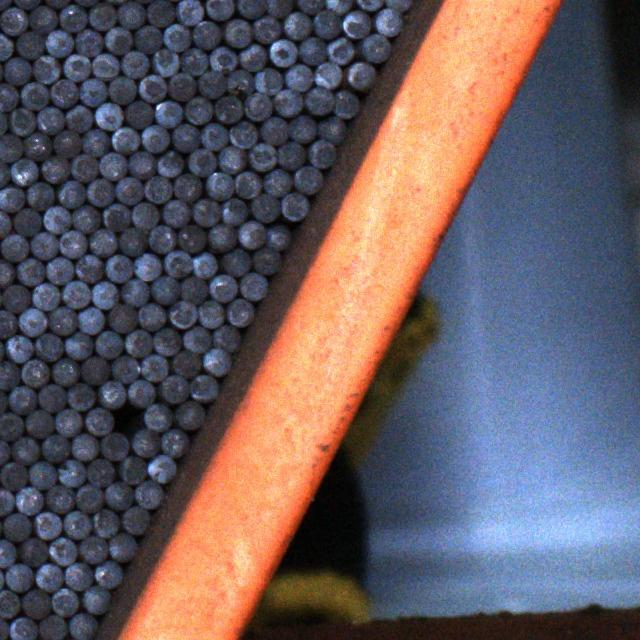tool: (20, 589, 50, 619), (345, 62, 375, 91), (359, 32, 389, 61), (304, 86, 334, 115), (173, 402, 203, 430), (158, 376, 188, 404), (224, 18, 252, 48), (189, 375, 218, 403), (192, 21, 220, 50), (78, 535, 107, 563), (238, 219, 266, 248), (146, 454, 174, 483), (134, 479, 162, 508), (48, 535, 76, 564), (167, 73, 195, 102), (151, 274, 179, 303), (16, 29, 44, 58), (81, 357, 110, 385), (252, 193, 280, 222), (312, 8, 340, 37), (41, 155, 70, 183), (4, 513, 32, 542), (272, 90, 302, 117), (94, 102, 122, 130), (112, 356, 140, 384), (280, 192, 308, 220), (294, 166, 322, 194), (249, 143, 277, 171), (289, 115, 317, 143), (125, 330, 153, 358), (20, 358, 48, 386), (61, 279, 89, 307), (205, 172, 233, 200), (108, 305, 136, 333), (66, 383, 94, 411), (308, 140, 336, 168), (93, 560, 121, 588), (229, 119, 257, 147), (34, 563, 62, 591), (118, 228, 146, 256), (153, 328, 181, 356), (46, 256, 74, 284), (19, 536, 47, 564), (132, 252, 160, 280), (74, 484, 102, 512), (299, 36, 327, 64), (34, 334, 62, 362), (198, 70, 226, 98), (192, 199, 220, 227), (42, 435, 70, 463), (48, 306, 76, 334), (104, 481, 132, 509), (72, 205, 100, 233), (341, 9, 369, 37), (16, 258, 44, 286), (160, 428, 188, 456), (319, 116, 347, 144), (134, 25, 162, 53), (44, 485, 72, 513), (168, 301, 196, 329), (94, 331, 122, 359), (89, 229, 117, 257), (22, 132, 50, 160), (374, 8, 402, 36), (28, 6, 56, 34), (237, 42, 265, 70), (64, 331, 92, 359), (64, 103, 92, 131), (222, 249, 250, 277), (83, 586, 111, 614), (88, 1, 116, 29), (252, 246, 280, 274), (171, 348, 199, 376), (122, 506, 150, 534), (260, 115, 287, 144), (172, 173, 199, 202), (108, 532, 135, 561), (9, 384, 36, 413), (74, 253, 101, 282), (277, 141, 304, 170), (92, 508, 118, 538), (127, 150, 154, 178), (215, 96, 242, 124), (79, 78, 106, 106), (19, 308, 46, 336), (163, 24, 190, 52), (28, 461, 56, 488), (52, 588, 79, 616), (31, 282, 58, 310), (101, 202, 128, 230), (59, 231, 86, 259), (244, 93, 271, 121), (132, 428, 159, 456), (118, 0, 145, 28), (15, 487, 42, 515), (143, 404, 171, 431), (62, 512, 89, 540), (286, 64, 313, 92), (21, 83, 48, 111), (238, 273, 266, 300), (100, 432, 128, 459), (31, 56, 58, 84), (185, 96, 212, 124), (164, 249, 192, 276), (5, 336, 32, 364), (50, 78, 77, 106), (32, 512, 59, 540), (6, 563, 33, 591), (208, 273, 235, 301), (10, 438, 37, 466), (255, 67, 282, 95), (119, 456, 146, 484), (8, 109, 36, 136), (98, 152, 125, 180), (187, 147, 214, 175), (55, 409, 82, 437), (203, 348, 231, 375), (37, 382, 64, 410), (127, 378, 154, 406), (147, 0, 175, 27), (74, 29, 101, 57), (97, 380, 124, 408), (155, 99, 183, 126), (263, 168, 291, 195), (25, 409, 52, 437), (120, 279, 148, 306), (80, 130, 108, 157), (52, 358, 79, 386), (57, 460, 85, 487), (86, 409, 114, 436), (131, 201, 158, 229), (282, 11, 310, 38), (141, 353, 169, 380), (253, 15, 280, 43), (56, 181, 84, 208), (125, 101, 153, 128), (184, 325, 212, 352), (26, 181, 53, 209), (207, 223, 234, 251), (227, 299, 254, 327), (87, 457, 114, 485), (219, 146, 246, 174), (0, 233, 27, 261), (4, 57, 31, 85), (0, 284, 28, 311), (227, 69, 254, 97), (59, 3, 86, 31), (104, 253, 130, 282), (145, 176, 172, 203), (112, 128, 139, 155), (92, 54, 119, 81), (179, 47, 206, 74), (114, 177, 141, 204), (268, 39, 295, 66), (103, 27, 130, 54), (142, 126, 169, 153), (177, 224, 204, 251), (200, 123, 227, 150), (36, 106, 63, 133), (86, 178, 113, 205), (62, 55, 89, 82), (29, 233, 56, 260), (137, 303, 164, 330), (172, 125, 199, 152), (208, 45, 235, 72), (14, 207, 41, 234), (70, 434, 97, 461), (108, 75, 134, 103), (149, 226, 175, 254), (64, 561, 90, 589), (70, 614, 98, 640), (162, 200, 188, 228), (42, 206, 68, 234), (54, 129, 80, 157), (181, 274, 207, 302), (138, 75, 164, 103), (156, 150, 182, 178), (72, 154, 98, 182), (328, 36, 354, 64), (222, 197, 248, 225), (0, 461, 25, 490), (234, 171, 260, 198), (91, 282, 118, 308), (121, 52, 148, 78), (46, 30, 72, 57), (197, 300, 223, 327), (152, 48, 178, 75), (214, 324, 241, 350), (11, 160, 37, 187), (78, 307, 104, 334), (314, 62, 340, 89), (39, 615, 67, 640), (0, 6, 25, 34), (175, 0, 202, 25), (335, 91, 360, 118), (0, 132, 22, 161), (266, 224, 291, 249), (193, 253, 217, 279), (10, 617, 37, 640), (0, 411, 22, 439), (0, 186, 23, 212), (205, 0, 232, 20), (0, 590, 18, 618), (235, 0, 264, 17), (0, 360, 17, 388), (0, 83, 17, 111), (0, 310, 16, 338), (266, 0, 293, 16), (0, 539, 15, 567), (0, 488, 14, 516), (297, 0, 325, 13), (0, 259, 13, 287), (0, 33, 13, 60), (384, 0, 412, 12), (326, 0, 353, 12), (0, 209, 10, 237), (354, 0, 382, 10), (14, 0, 41, 9), (0, 440, 9, 467), (0, 161, 9, 188), (42, 0, 70, 7), (0, 389, 7, 416), (0, 617, 8, 640), (0, 109, 6, 138), (72, 0, 100, 5), (0, 0, 12, 10)
